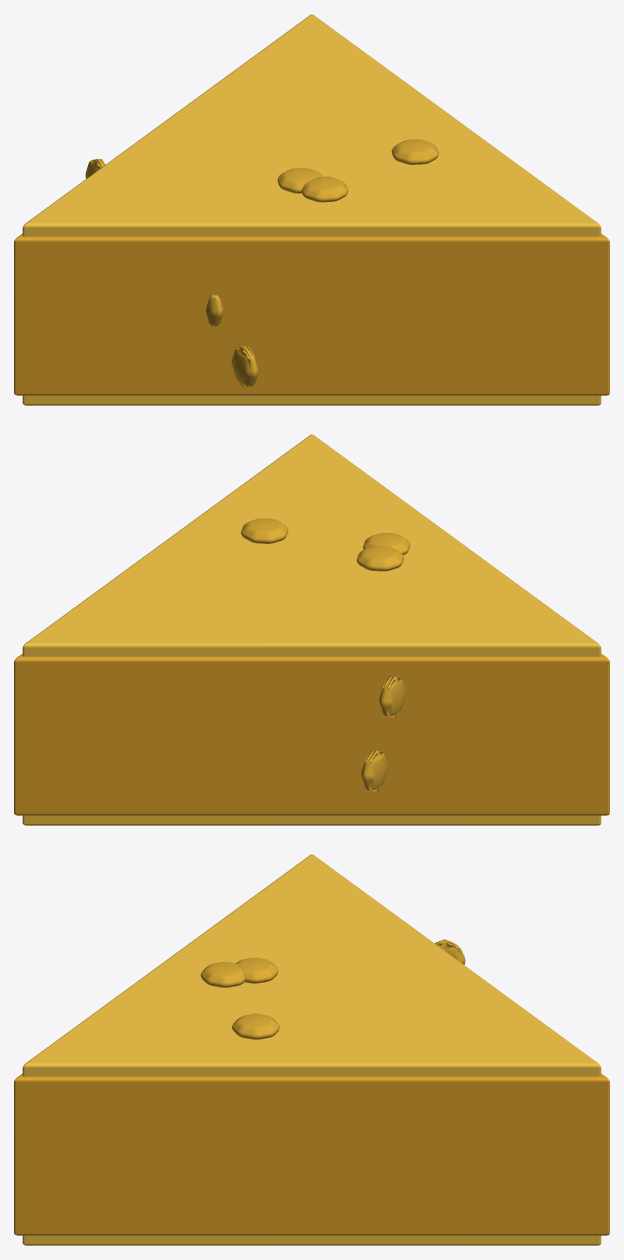
Rendered from Cheese.glb.
The picture shows the model from 3 angles, top to bottom: view 1: azimuth 30°, elevation 25°; view 2: azimuth 150°, elevation 25°; view 3: azimuth 270°, elevation 25°; orthographic projection.
Visible parts, largest first — view 1: Cheese; view 2: Cheese; view 3: Cheese.
Part boxes in pixels (x1=…): Cheese: x1=14, y1=14, x2=609, y2=405; Cheese: x1=14, y1=434, x2=609, y2=825; Cheese: x1=14, y1=854, x2=609, y2=1245.
Bounding box in the file's own units: 0.154 × 0.064 × 0.1775.
